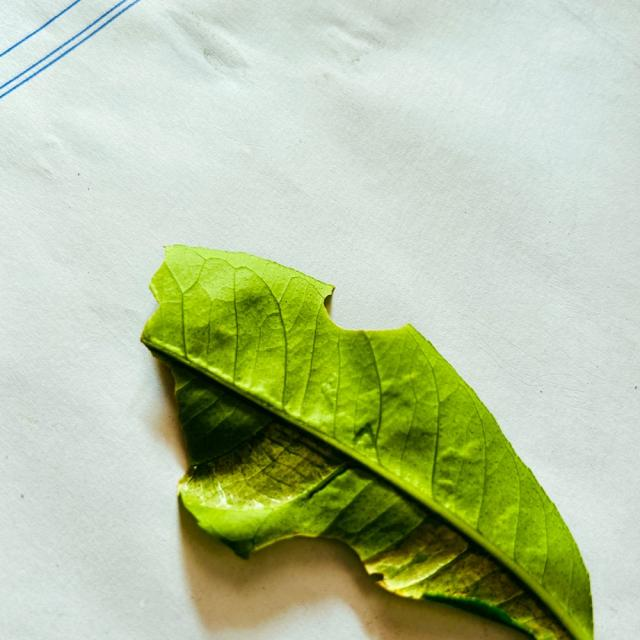Deficiency Leaf: (248, 536, 376, 617), (146, 346, 188, 471), (324, 286, 404, 329)
Lemon: (141, 246, 592, 639)
